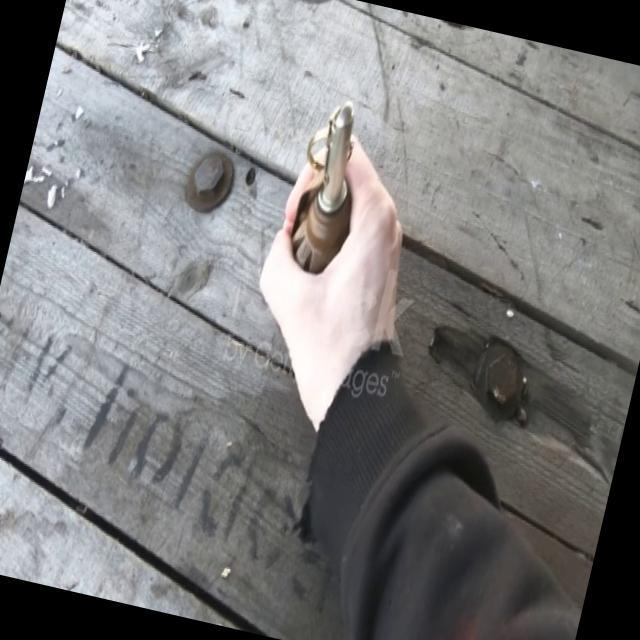grenade: (280, 91, 376, 279)
